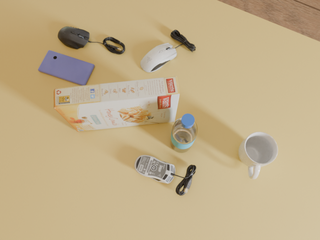bottle: (171, 114, 197, 153)
box: (54, 76, 179, 132)
cup: (239, 132, 278, 179)
mouse: (134, 155, 177, 183), (140, 43, 177, 72), (58, 26, 91, 49)
phone: (38, 50, 94, 86)
